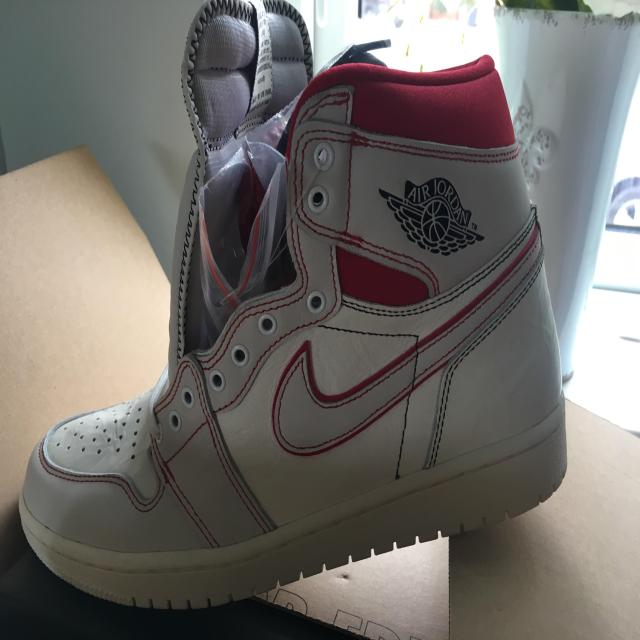shoe: (11, 0, 570, 615)
